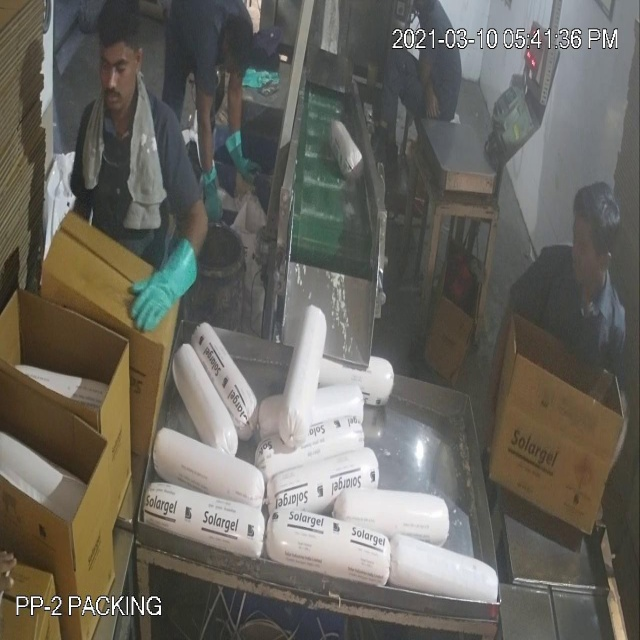Guantes: (128, 237, 208, 357), (222, 116, 268, 193), (200, 160, 233, 243)
Sin_guantes: (488, 276, 526, 483), (420, 61, 450, 128)
